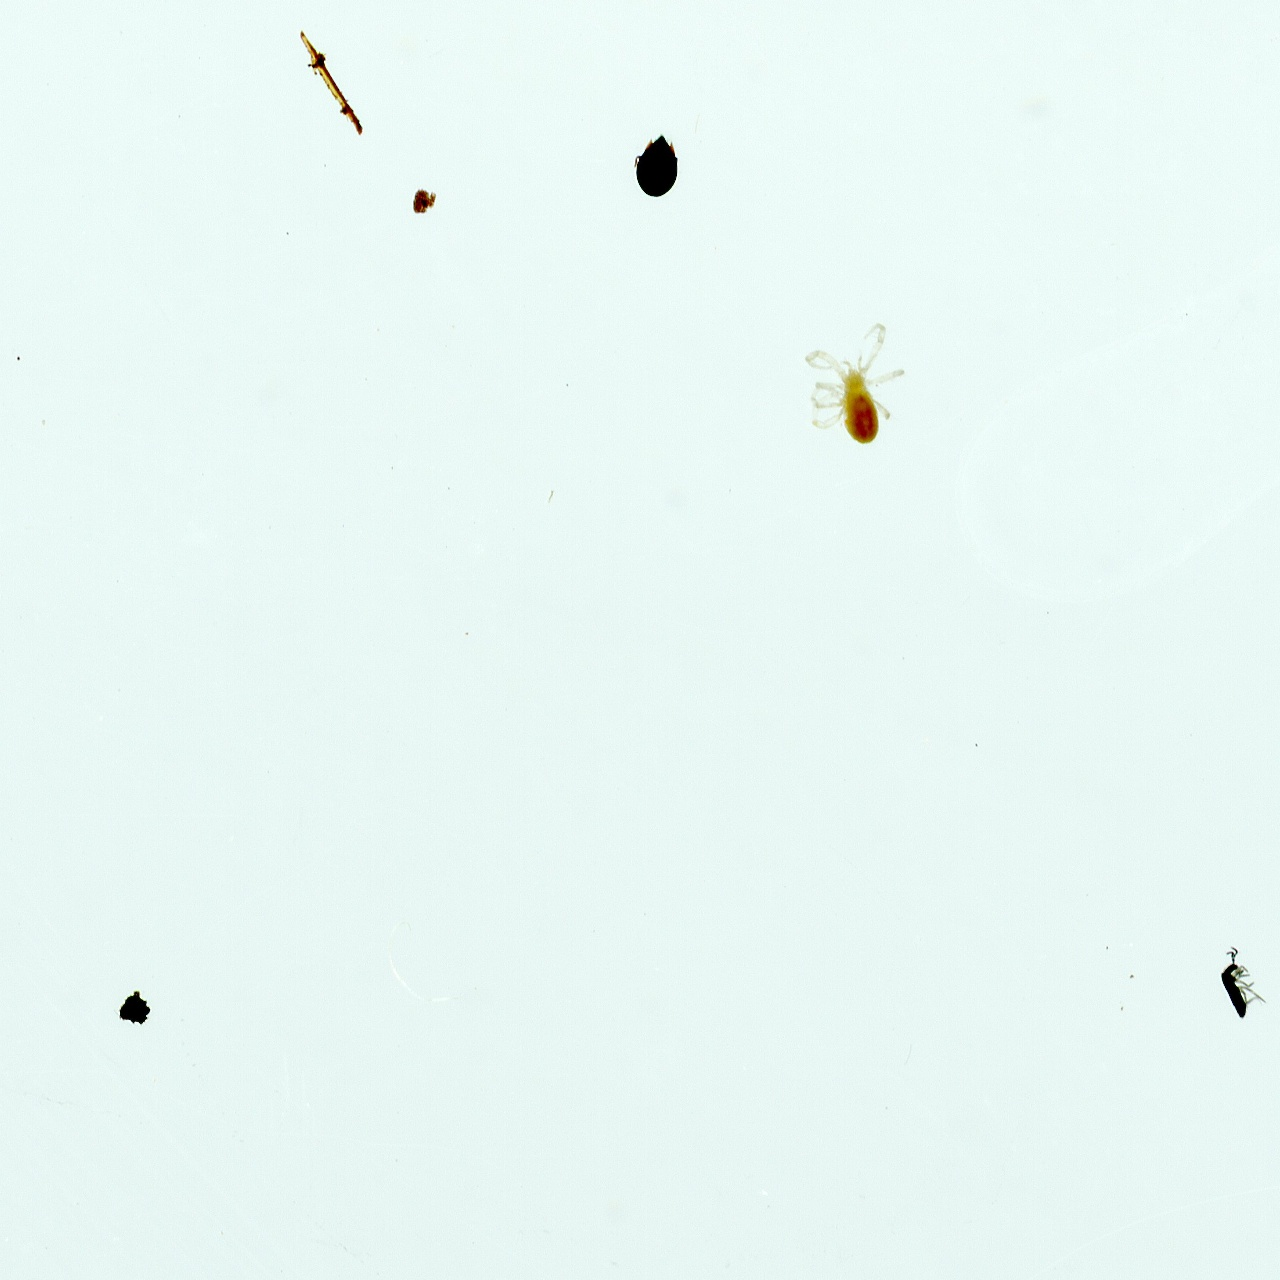arthropod: (803, 319, 908, 447), (1204, 937, 1280, 1033), (633, 131, 681, 202)
